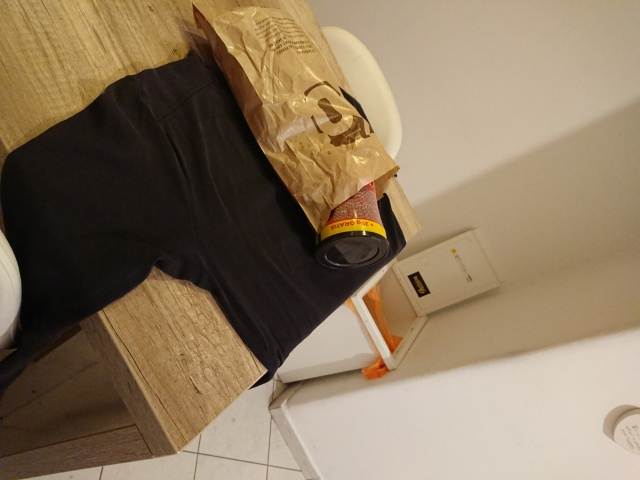Nescafe Classic 225g: (311, 150, 393, 276)
